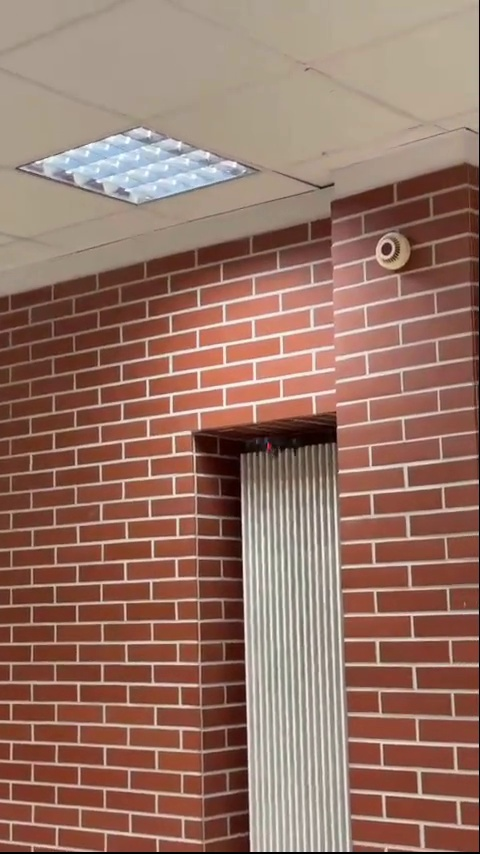drone: (246, 428, 310, 458)
